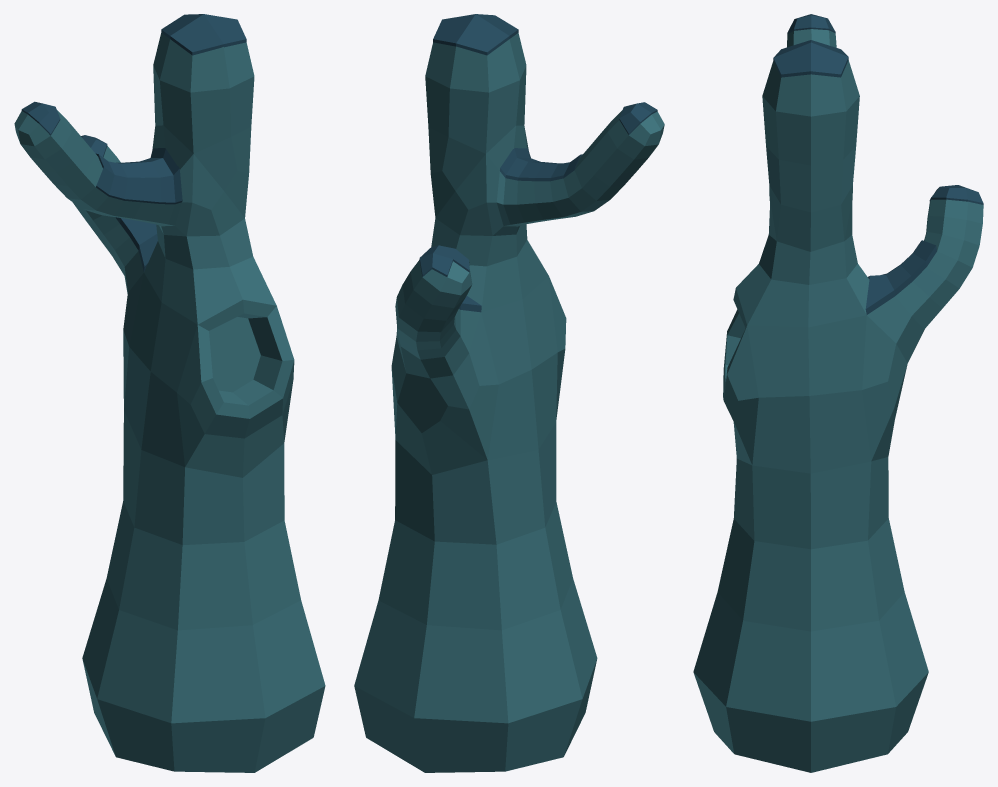
File: arvore1.fbx
3 renders of one model, left to right at view 1: azimuth 30°, elevation 25°; view 2: azimuth 150°, elevation 25°; view 3: azimuth 270°, elevation 25°, orthographic. The views are drawn at different scales.
Visible parts, largest first — view 1: Vert.002; view 2: Vert.002; view 3: Vert.002.
Boxes of the visible parts, x1,y1,x2,y2 form: Vert.002: (14,14,325,772); Vert.002: (354,14,664,772); Vert.002: (693,14,983,772).
Bounding box in the file's own units: 183 × 445 × 165.
